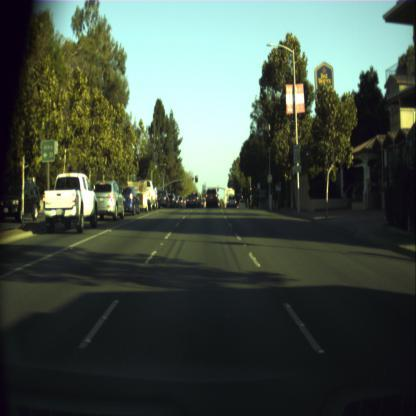Red: (195, 176, 198, 181), (241, 194, 243, 198), (217, 185, 218, 190), (250, 188, 252, 190)
